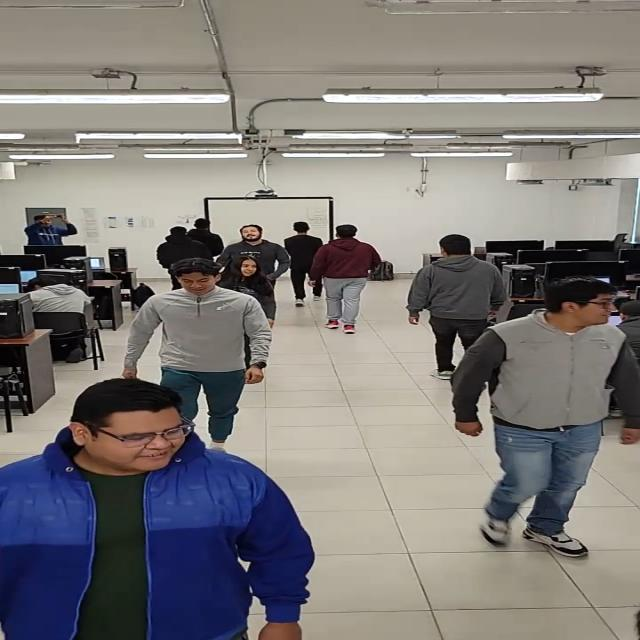Persona: (21, 379, 306, 638), (452, 276, 626, 560), (141, 261, 251, 393), (412, 235, 502, 335), (330, 226, 374, 332), (285, 220, 324, 303), (18, 211, 84, 252), (226, 250, 274, 301), (165, 222, 217, 269), (233, 222, 286, 260)
